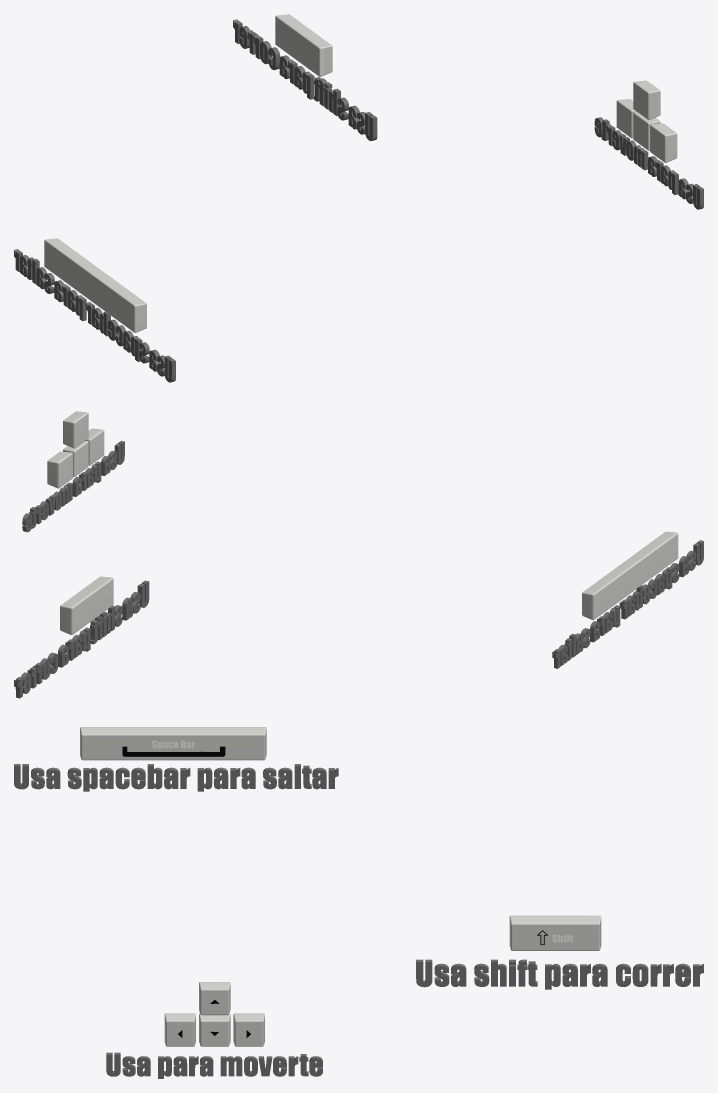
Rendered from HSBC Entorno_10_CAPAS_TECLAS INICIO.fbx.
3 renders of one model, top to bottom at view 1: azimuth 30°, elevation 25°; view 2: azimuth 150°, elevation 25°; view 3: azimuth 270°, elevation 25°, orthographic. The views are drawn at different scales.
Parts seen in each view (by area): view 1: spacebar, shift, polySurface57, polySurface79.001, polySurface44, izquierda, arriba, polySurface75, polySurface28.001, polySurface34, polySurface62, polySurface25 (+4 smaller); view 2: spacebar, shift, polySurface57, polySurface79.001, polySurface44, arriba, derecha, polySurface75, polySurface28.001, polySurface34, polySurface25, polySurface62 (+5 smaller); view 3: spacebar, shift, polySurface57, polySurface79.001, polySurface44, polySurface75, polySurface28.001, polySurface34, polySurface62, polySurface25, derecha, izquierda (+5 smaller).
Part boxes in pixels (x1=…): spacebar: x1=44, y1=238, x2=146, y2=332; shift: x1=275, y1=14, x2=332, y2=76; polySurface57: x1=86, y1=302, x2=149, y2=363; polySurface79.001: x1=594, y1=117, x2=648, y2=170; polySurface44: x1=233, y1=19, x2=280, y2=69; izquierda: x1=650, y1=123, x2=677, y2=162; arriba: x1=633, y1=80, x2=660, y2=119; polySurface75: x1=14, y1=249, x2=54, y2=293; polySurface28.001: x1=314, y1=77, x2=348, y2=120; polySurface34: x1=279, y1=55, x2=314, y2=99; polySurface62: x1=54, y1=280, x2=86, y2=321; polySurface25: x1=348, y1=105, x2=377, y2=140; spacebar: x1=582, y1=531, x2=678, y2=620; shift: x1=60, y1=576, x2=113, y2=634; polySurface57: x1=619, y1=563, x2=679, y2=619; polySurface79.001: x1=22, y1=482, x2=72, y2=532; polySurface44: x1=14, y1=652, x2=58, y2=698; arriba: x1=63, y1=411, x2=88, y2=448; derecha: x1=47, y1=451, x2=72, y2=488; polySurface75: x1=552, y1=628, x2=590, y2=668; polySurface28.001: x1=90, y1=605, x2=122, y2=644; polySurface34: x1=58, y1=627, x2=90, y2=667; polySurface25: x1=122, y1=580, x2=149, y2=620; polySurface62: x1=590, y1=605, x2=620, y2=642; spacebar: x1=80, y1=727, x2=266, y2=760; shift: x1=509, y1=915, x2=601, y2=950; polySurface57: x1=67, y1=764, x2=190, y2=791; polySurface79.001: x1=220, y1=1054, x2=322, y2=1076; polySurface44: x1=616, y1=963, x2=703, y2=986; polySurface75: x1=263, y1=764, x2=338, y2=789; polySurface28.001: x1=474, y1=959, x2=537, y2=986; polySurface34: x1=545, y1=963, x2=607, y2=989; polySurface62: x1=197, y1=767, x2=255, y2=791; polySurface25: x1=416, y1=959, x2=466, y2=987; derecha: x1=233, y1=1013, x2=264, y2=1046; izquierda: x1=164, y1=1013, x2=195, y2=1046.
Size of the model in its own units: 3108 by 456 by 3086.
